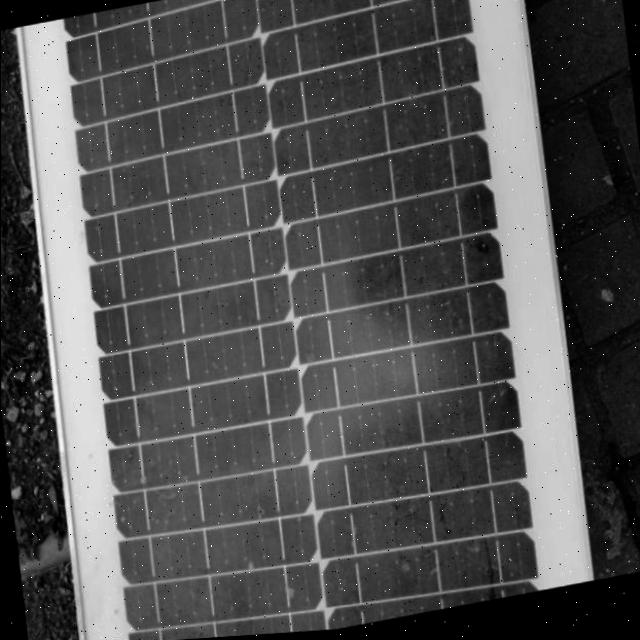Anomaly Solar Panel: (21, 0, 554, 640)
Surface Contaminant: (33, 0, 551, 640)
